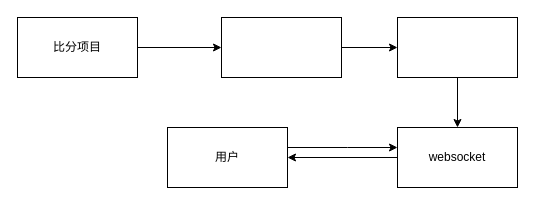
Some shapes in this 535 by 205 pixel diagram are drawn without their labels. Each missing label, with the centre of its shape:
投递消息到redis: the point at 281,47
消息队列进程: the point at 457,47
